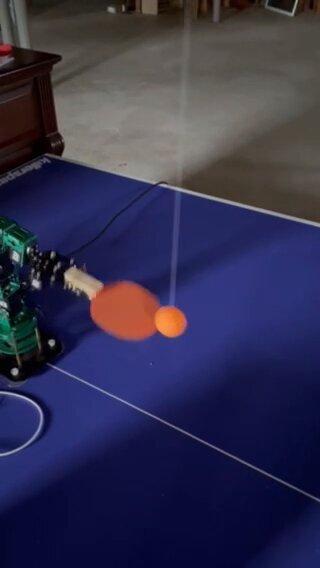oball: (154, 304, 185, 336)
